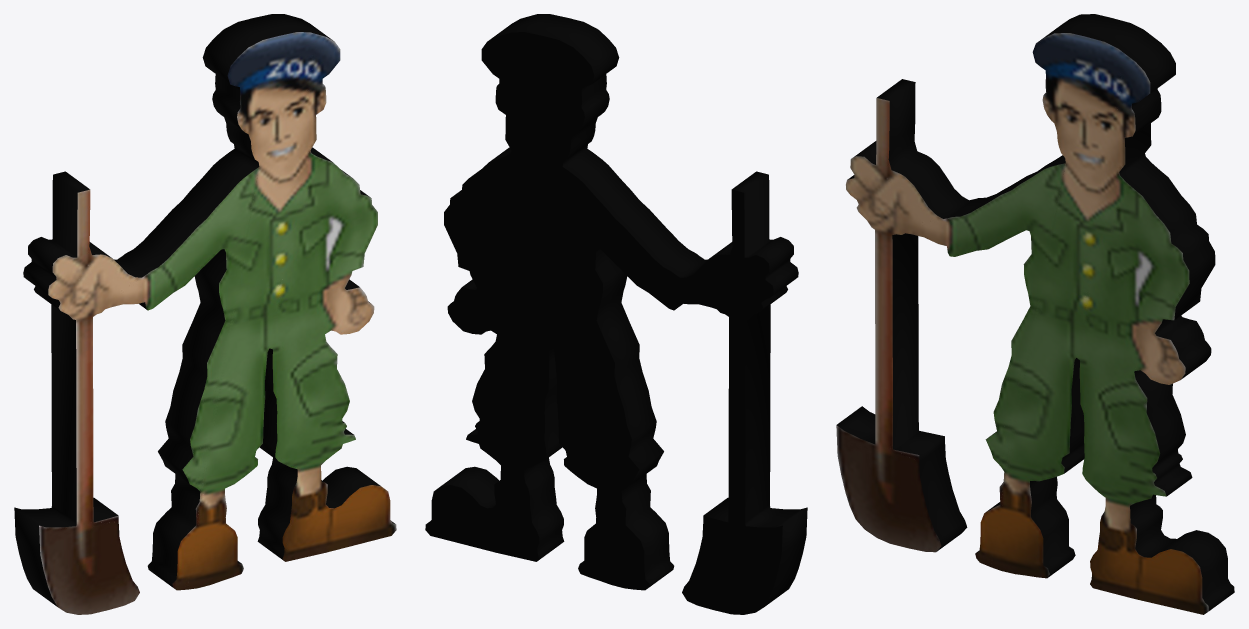
The model's file is zoo.gltf.
The picture shows the model from 3 angles, left to right: view 1: azimuth 30°, elevation 25°; view 2: azimuth 150°, elevation 25°; view 3: azimuth 330°, elevation 25°; orthographic projection. The views are drawn at different scales.
Visible parts, largest first — view 1: Vert.001; view 2: Vert.001; view 3: Vert.001.
Part boxes in pixels (<box>): Vert.001: <box>14,14,396,614</box>; Vert.001: <box>425,14,807,614</box>; Vert.001: <box>836,14,1234,614</box>.
Bounding box in the file's own units: 18.16 × 25.86 × 2.18.
1 material, 1 textured.
